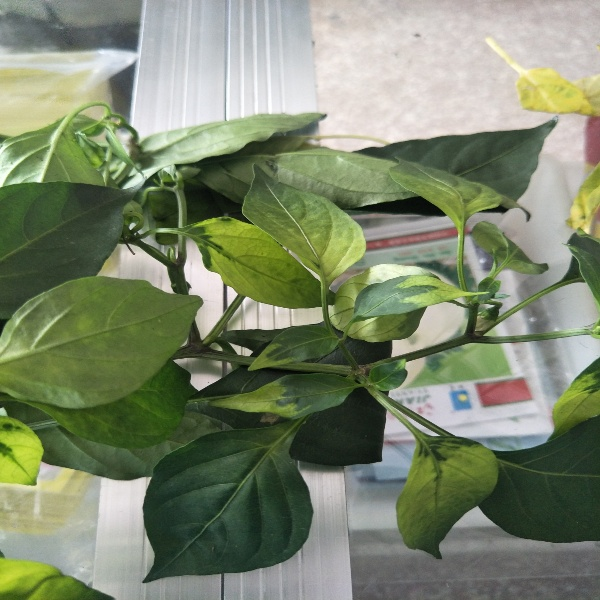Improper medication: (395, 434, 499, 561), (203, 216, 326, 308), (238, 197, 366, 278), (395, 168, 512, 226), (512, 60, 600, 120), (1, 552, 105, 600), (391, 266, 486, 315), (203, 378, 300, 418), (546, 366, 600, 431), (1, 421, 44, 489), (572, 161, 600, 237), (244, 341, 294, 371)
